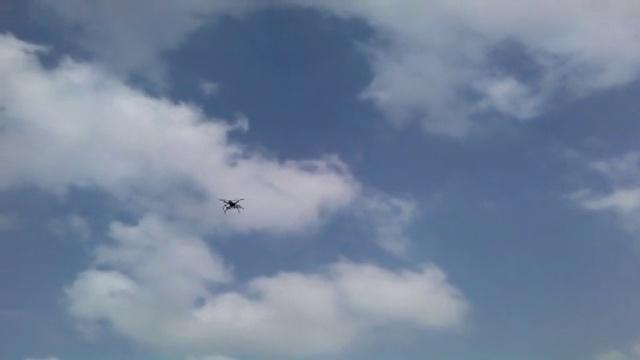drone: (214, 195, 247, 214)
